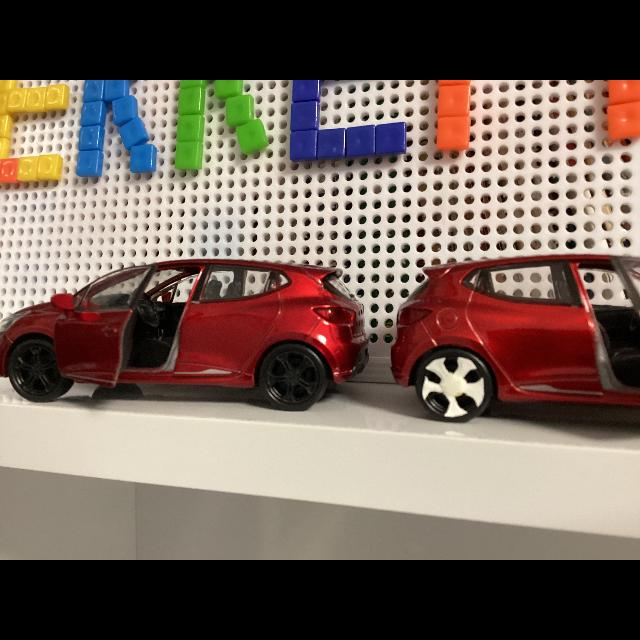Dogru_Jant: (267, 350, 319, 404), (15, 343, 60, 392)
Yanlis_Jant: (422, 355, 484, 419)
